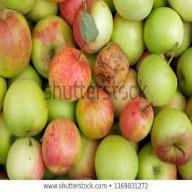apple: (34, 16, 74, 75), (72, 3, 116, 51), (48, 51, 90, 100), (92, 42, 130, 94), (5, 84, 46, 132), (41, 120, 82, 167), (134, 57, 174, 105), (152, 108, 192, 155), (110, 13, 148, 62), (97, 135, 140, 175), (146, 11, 182, 54), (8, 137, 44, 177)
